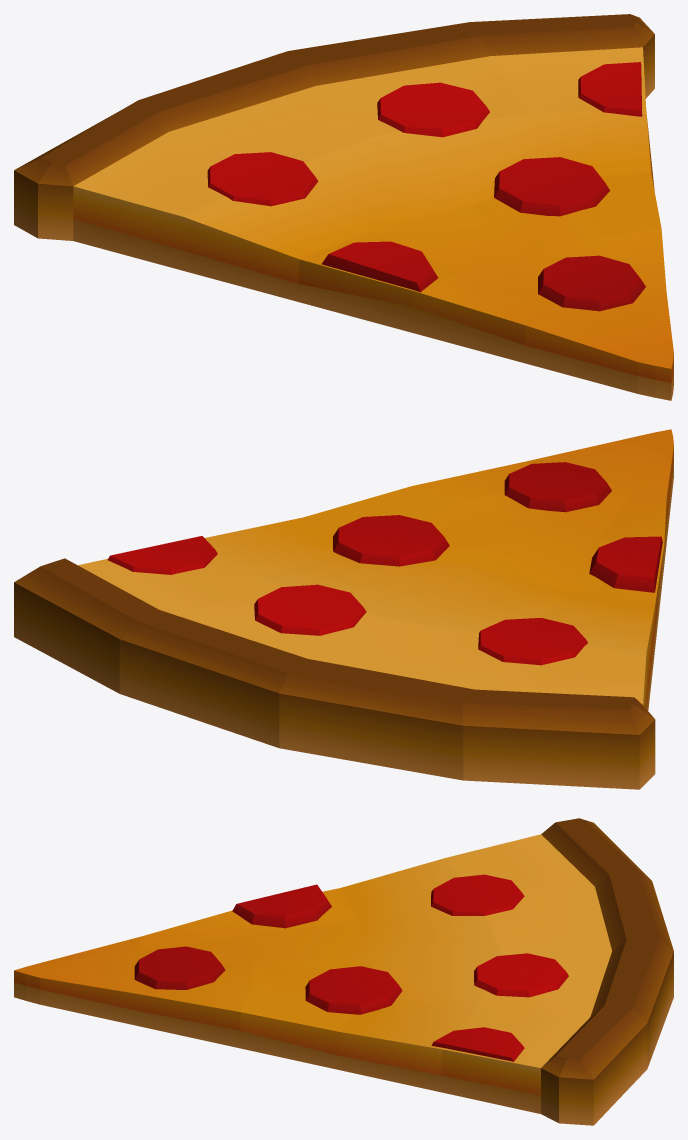
The model's file is pizza.glb.
3 renders of one model, top to bottom at view 1: azimuth 30°, elevation 25°; view 2: azimuth 150°, elevation 25°; view 3: azimuth 270°, elevation 25°, orthographic. The views are drawn at different scales.
Visible parts, largest first — view 1: Pizza_Slice; view 2: Pizza_Slice; view 3: Pizza_Slice.
Boxes of the visible parts, x1,y1,x2,y2 form: Pizza_Slice: (14,14,673,400); Pizza_Slice: (14,429,673,789); Pizza_Slice: (14,818,673,1125).
Bounding box in the file's own units: 1.07 × 0.1128 × 1.16.
Materials: 1 (1 with a texture image).
